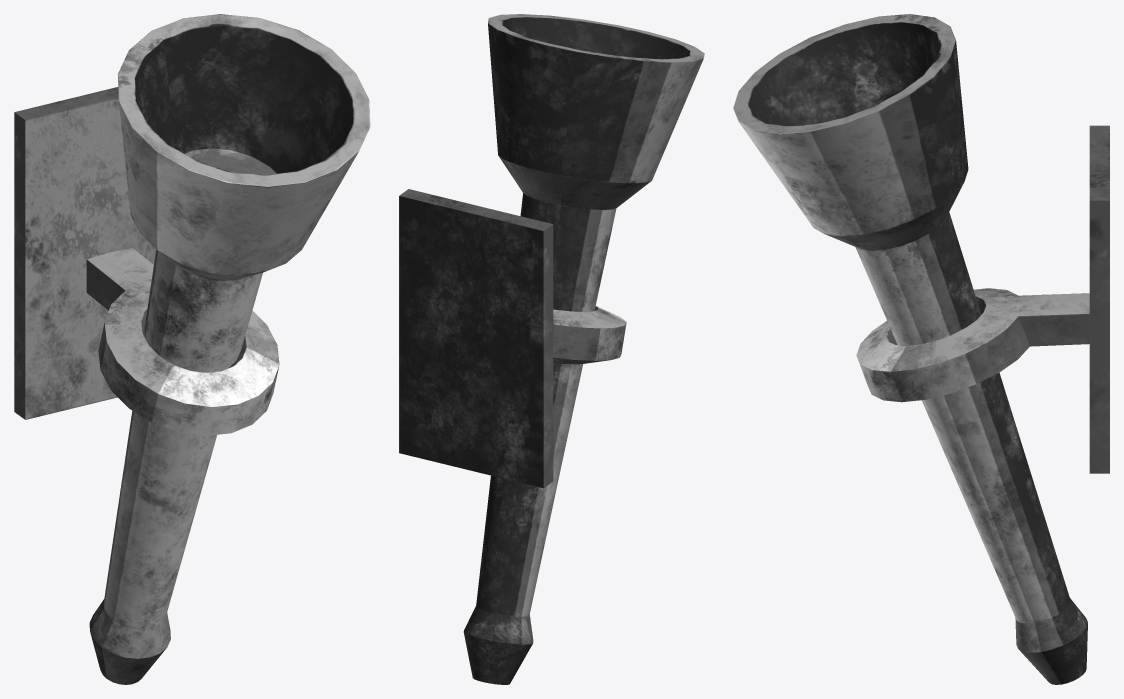
The model's file is TorchA.fbx.
3 renders of one model, left to right at view 1: azimuth 30°, elevation 25°; view 2: azimuth 150°, elevation 25°; view 3: azimuth 270°, elevation 25°, orthographic. The views are drawn at different scales.
Visible parts, largest first — view 1: polySurface1; view 2: polySurface1; view 3: polySurface1.
Part boxes in pixels (x1=…): polySurface1: x1=14, y1=14, x2=370, y2=684; polySurface1: x1=399, y1=14, x2=704, y2=684; polySurface1: x1=733, y1=14, x2=1109, y2=684.
Bounding box in the file's own units: 22.33 × 67.06 × 35.76.
1 material, 1 textured.
